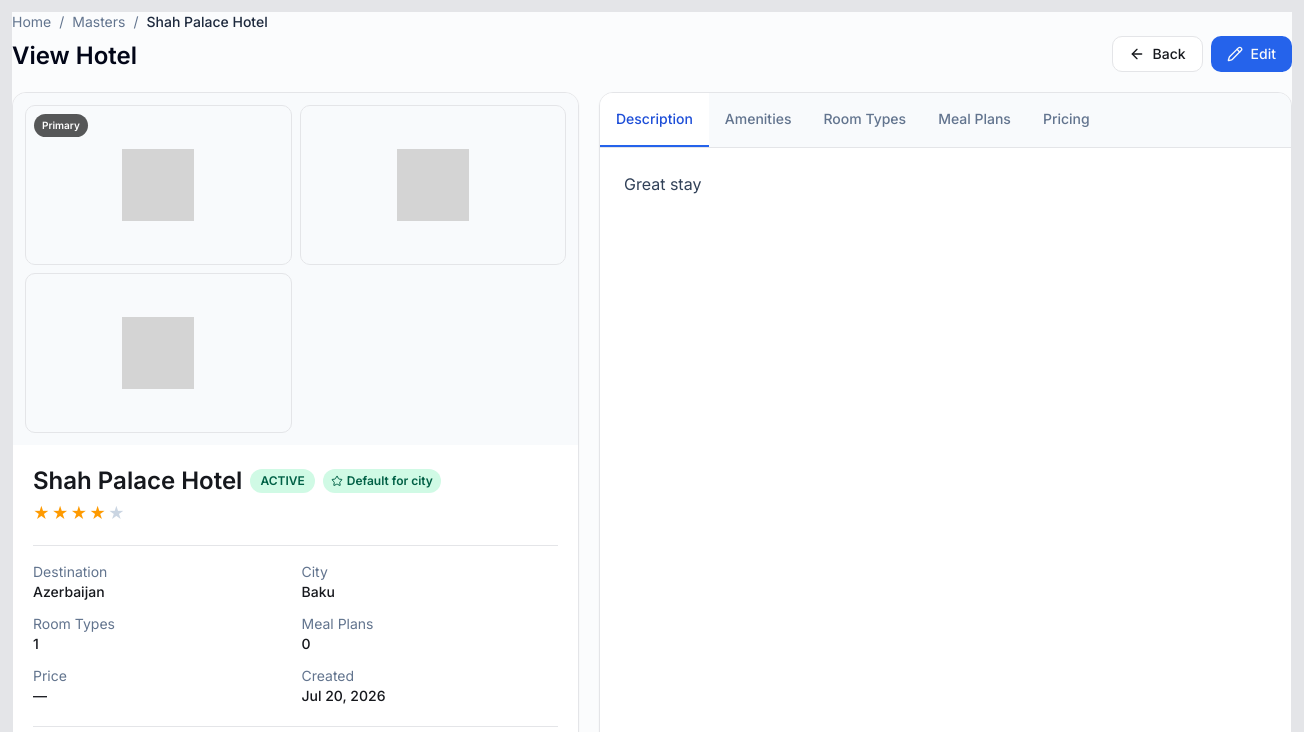
Test: Phase 13B master pages › hydrates hotel images immediately when navigating from View to Edit
This screenshot has width=1304, height=732.
Click the link "Edit" at (1251, 54), box [1211, 36, 1292, 72]
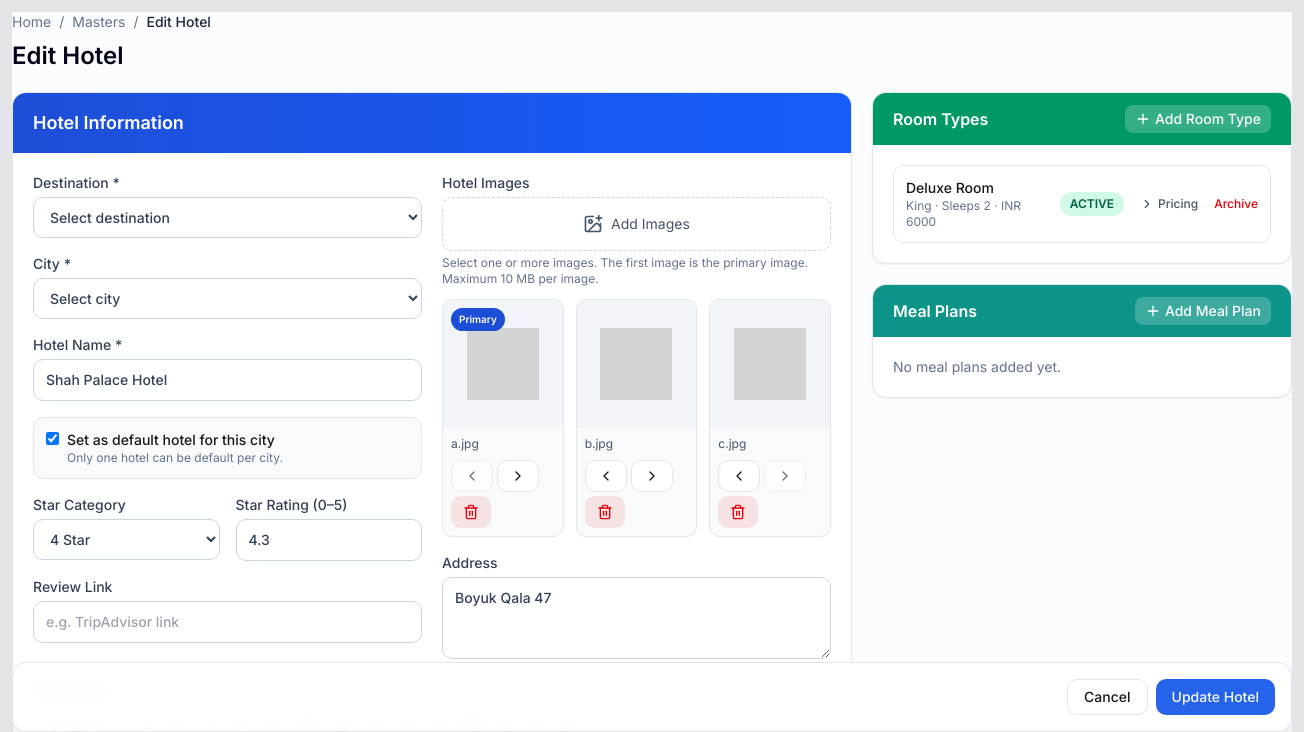
expect the heading "Edit Hotel" is shown: met, box [12, 41, 124, 70]
expect the text "a.jpg" is shown: met, box [451, 436, 479, 451]
expect the text "b.jpg" is shown: met, box [585, 436, 613, 451]
